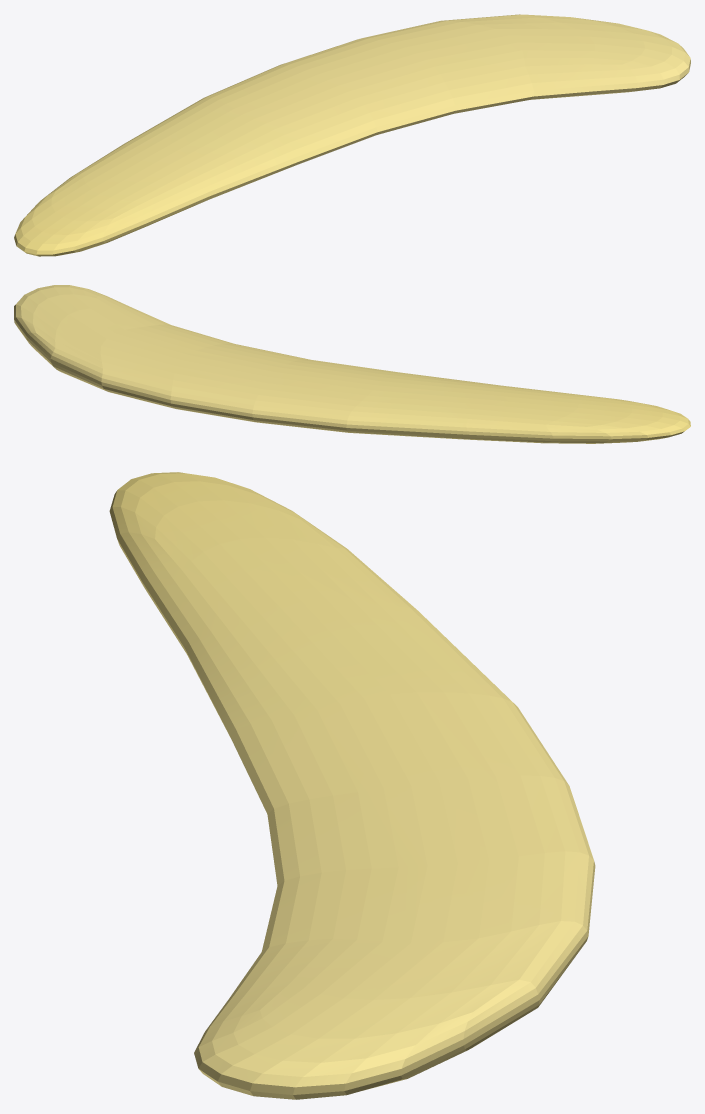
File: Sand Beach.fbx
The picture shows the model from 3 angles, top to bottom: view 1: azimuth 30°, elevation 25°; view 2: azimuth 150°, elevation 25°; view 3: azimuth 270°, elevation 25°; orthographic projection. The views are drawn at different scales.
Visible parts, largest first — view 1: Sand_2; view 2: Sand_2; view 3: Sand_2.
Boxes of the visible parts, x1,y1,x2,y2 form: Sand_2: [14, 14, 690, 256]; Sand_2: [14, 285, 690, 443]; Sand_2: [109, 472, 595, 1099].
Bounding box in the file's own units: 8272 × 303 × 2755.
